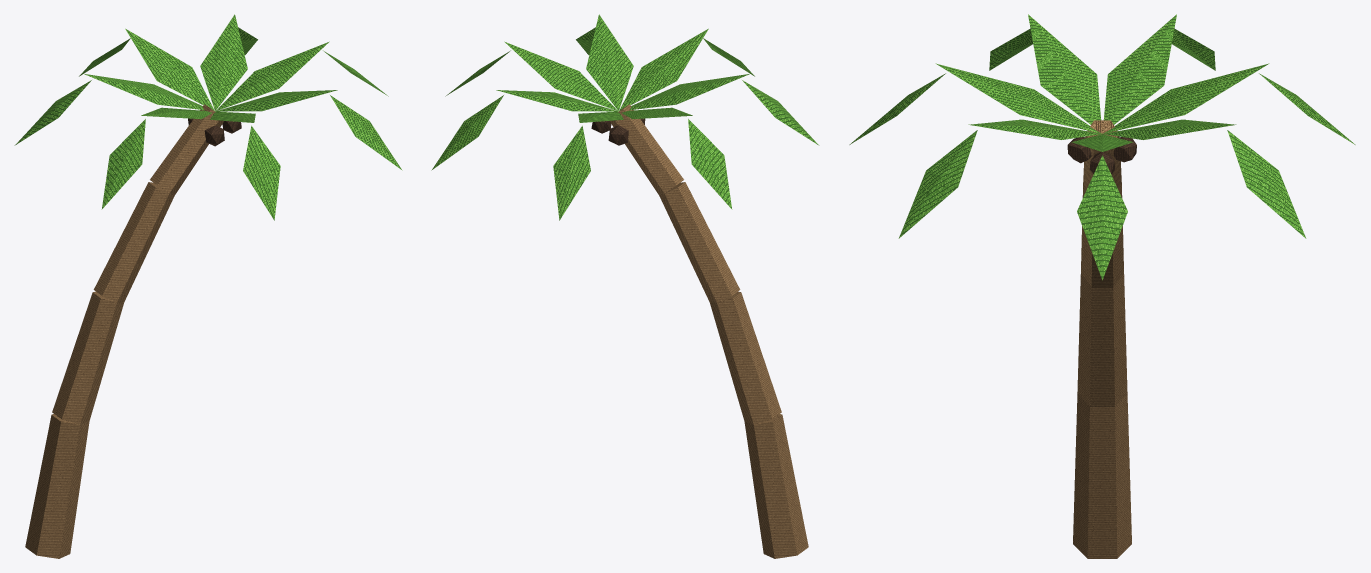
Rendered from tree_palm.glb.
3 renders of one model, left to right at view 1: azimuth 30°, elevation 25°; view 2: azimuth 150°, elevation 25°; view 3: azimuth 270°, elevation 25°, orthographic. The views are drawn at different scales.
Visible parts, largest first — view 1: Body.008; view 2: Body.008; view 3: Body.008.
Part boxes in pixels (x1,y1,x2,y2): Body.008: (14, 14, 402, 558); Body.008: (431, 14, 819, 558); Body.008: (849, 14, 1355, 558).
Size of the model in its own units: 4.71 by 5.57 by 4.47.
3 materials, 3 textured.
